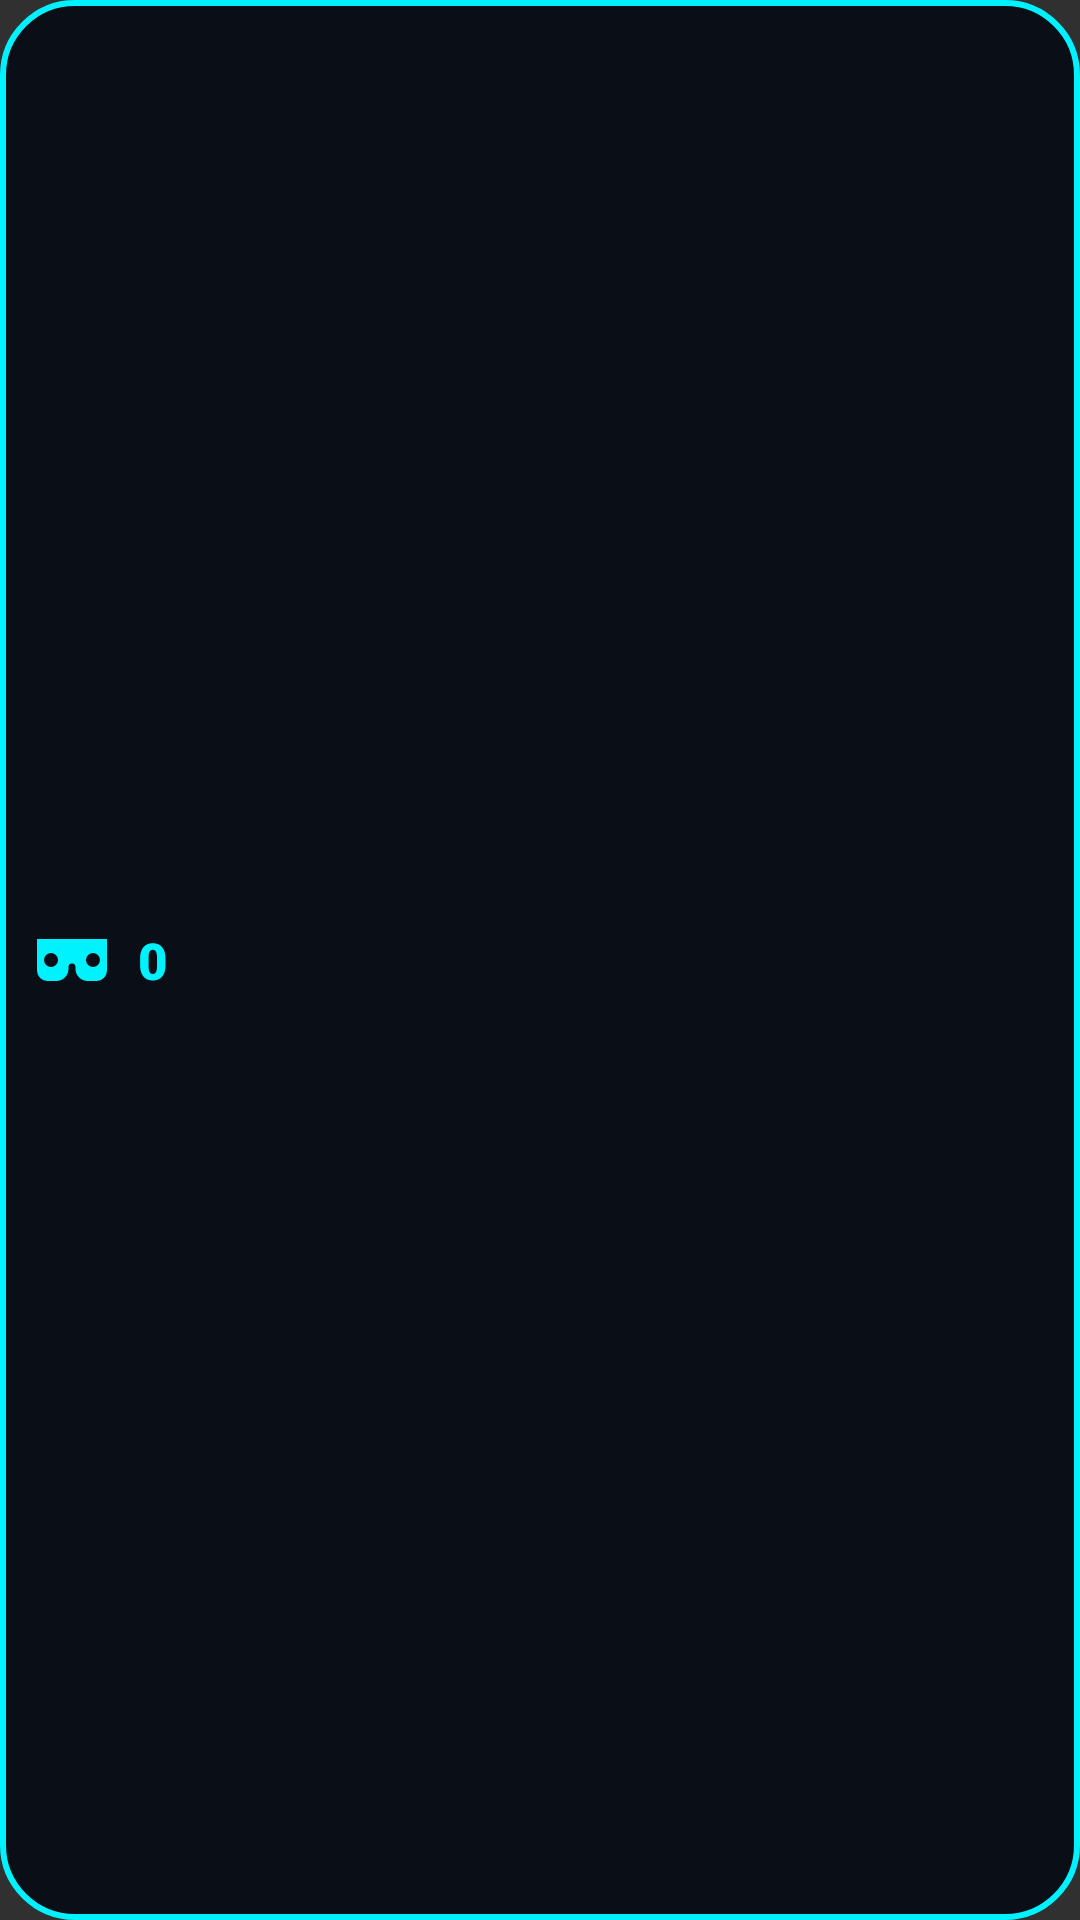

Icon click points for this 1080px×1920px phone screenshot, format point (x, y):
VR Headset: point (72, 960)
